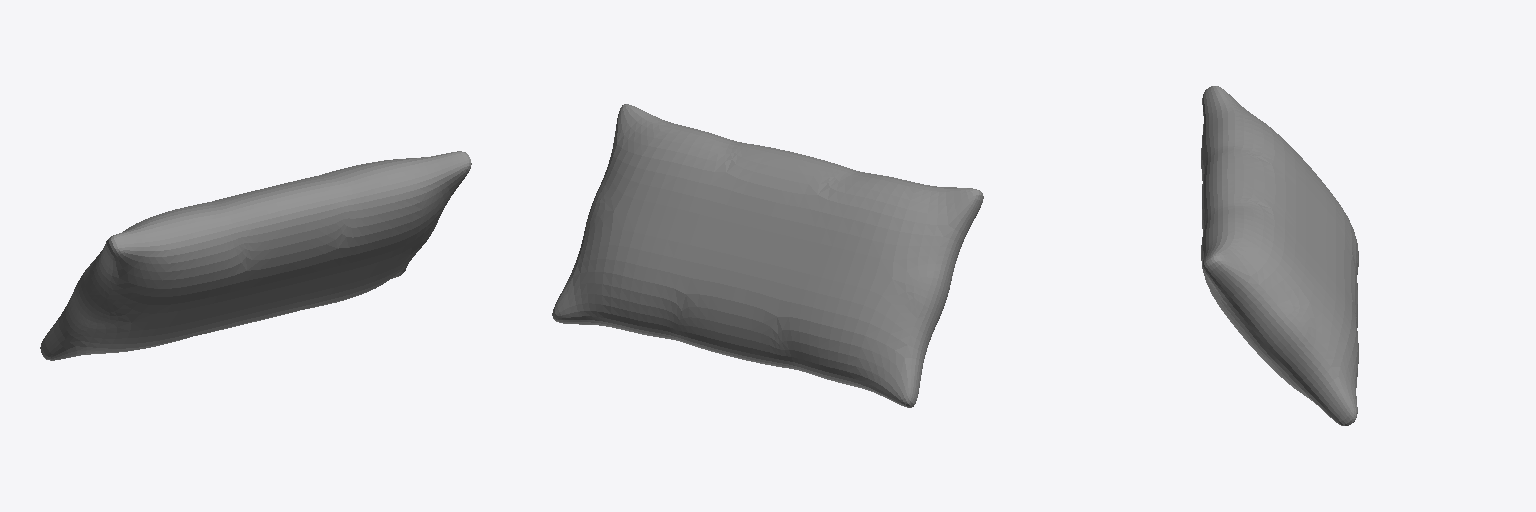
The model's file is pillowTwo.obj.
3 renders of one model, left to right at view 1: azimuth 30°, elevation 25°; view 2: azimuth 150°, elevation 25°; view 3: azimuth 270°, elevation 25°, orthographic.
Parts seen in each view (by area): view 1: 10217_Bed_Pillow_v1_Iterations-2; view 2: 10217_Bed_Pillow_v1_Iterations-2; view 3: 10217_Bed_Pillow_v1_Iterations-2.
Boxes of the visible parts, box(x1,y1,x2,y2) form: 10217_Bed_Pillow_v1_Iterations-2: box(40, 151, 471, 360); 10217_Bed_Pillow_v1_Iterations-2: box(552, 104, 983, 407); 10217_Bed_Pillow_v1_Iterations-2: box(1201, 86, 1358, 425).
Bounding box in the file's own units: 0.8931 × 0.4054 × 0.3397.